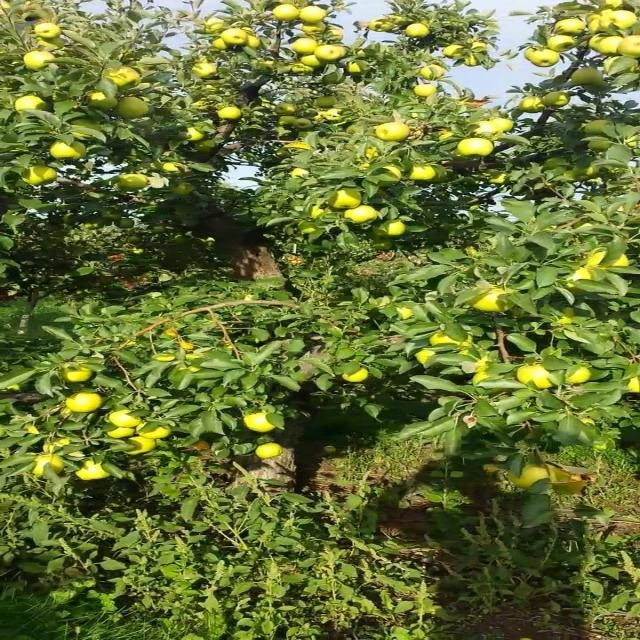apple: (511, 464, 553, 489), (518, 364, 555, 389), (476, 288, 514, 312), (589, 252, 631, 272), (433, 332, 476, 350), (568, 268, 596, 294), (70, 392, 105, 412), (106, 68, 142, 87), (35, 456, 66, 478), (554, 476, 588, 496), (77, 460, 110, 480), (376, 124, 412, 142), (461, 140, 496, 158), (326, 192, 363, 209), (120, 100, 149, 120), (127, 436, 156, 456), (575, 68, 604, 88), (70, 120, 101, 138), (28, 52, 57, 71), (604, 60, 638, 76), (92, 92, 119, 111), (378, 168, 405, 187), (611, 12, 639, 30), (348, 208, 379, 224), (554, 20, 585, 36), (56, 144, 87, 160), (28, 168, 57, 185), (618, 36, 639, 59), (532, 52, 562, 68), (340, 368, 370, 384), (141, 424, 171, 440), (255, 444, 284, 460), (540, 92, 569, 108), (248, 416, 277, 432), (298, 8, 327, 24), (191, 64, 220, 80), (547, 36, 576, 52), (20, 96, 48, 112), (291, 40, 320, 55), (113, 412, 142, 427), (63, 368, 92, 383), (412, 164, 437, 181), (582, 120, 610, 135), (383, 164, 405, 183), (120, 176, 149, 190), (35, 24, 62, 39), (604, 36, 624, 56), (404, 24, 430, 39), (518, 100, 548, 113), (589, 16, 610, 33), (568, 368, 590, 384), (106, 428, 135, 440), (276, 8, 299, 23), (476, 124, 500, 138), (419, 68, 446, 80), (205, 20, 228, 34), (490, 120, 516, 132), (49, 440, 71, 454), (319, 48, 341, 62), (468, 360, 491, 373), (227, 32, 249, 45), (276, 104, 299, 116), (589, 140, 612, 152), (561, 308, 578, 324), (220, 108, 242, 120), (383, 224, 405, 236), (170, 184, 192, 196), (291, 64, 313, 76), (369, 20, 391, 32), (625, 376, 639, 394), (255, 60, 276, 72), (305, 24, 327, 35), (191, 440, 213, 451), (419, 84, 439, 96), (305, 56, 325, 68), (163, 164, 187, 174), (312, 208, 332, 220), (276, 116, 297, 127), (589, 84, 610, 95), (191, 100, 212, 111), (376, 20, 395, 32), (589, 36, 604, 51), (419, 352, 436, 365), (348, 64, 368, 75), (298, 224, 320, 234), (561, 172, 583, 182), (212, 40, 231, 51), (191, 128, 206, 141), (476, 372, 491, 385), (376, 240, 395, 250), (525, 48, 539, 61), (248, 36, 263, 48), (476, 360, 491, 372), (42, 40, 62, 49), (42, 40, 64, 48), (582, 168, 601, 177), (625, 136, 639, 148), (447, 48, 462, 59), (490, 176, 510, 184), (198, 144, 215, 153), (326, 112, 343, 121), (298, 120, 313, 130), (468, 56, 480, 68), (28, 424, 41, 435), (319, 100, 336, 108), (106, 212, 123, 220), (291, 168, 308, 176), (120, 220, 135, 229), (440, 132, 455, 140), (333, 32, 347, 40), (476, 44, 491, 51), (312, 116, 327, 123), (604, 4, 620, 10), (404, 308, 412, 319)
